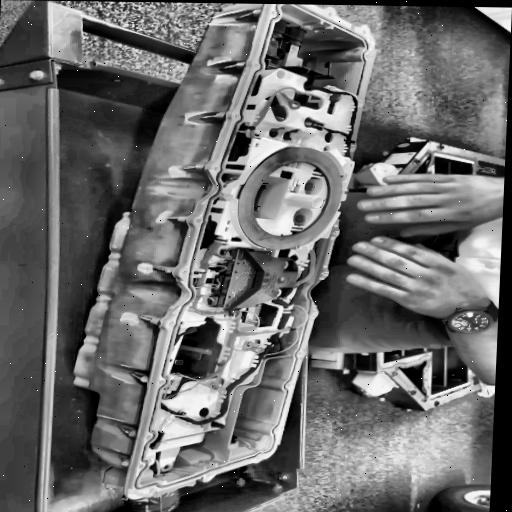bms_unit: (72, 4, 377, 504)
